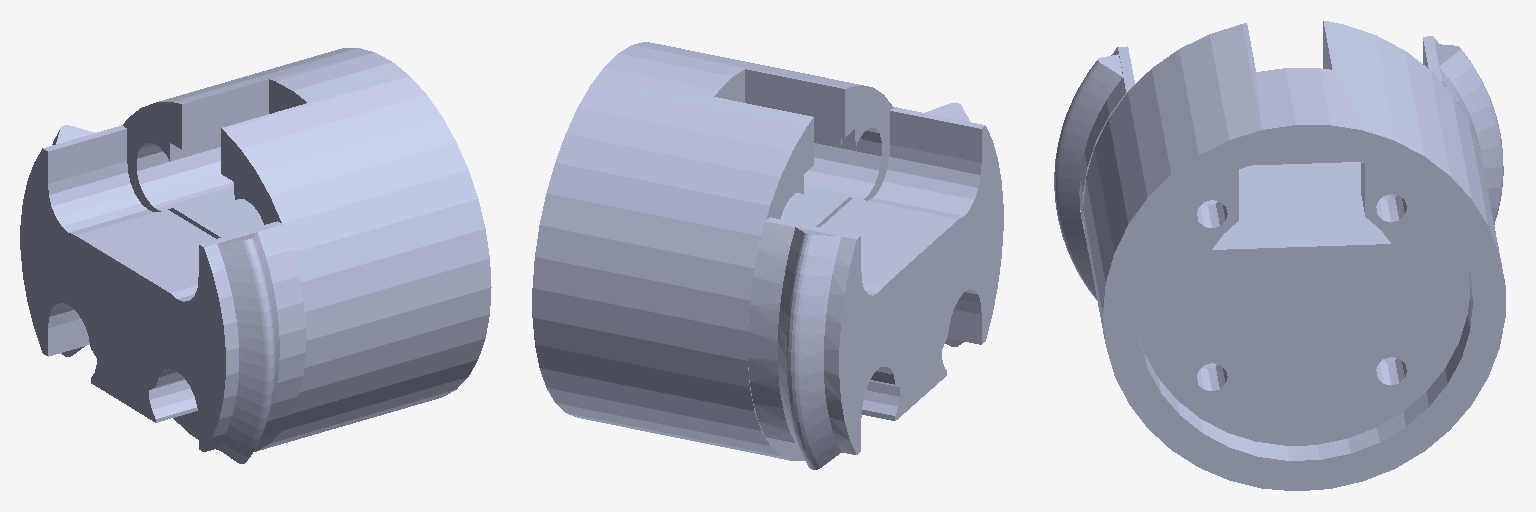
robot.urdf — unitree_l6_link_001:
<?xml version="1.0" encoding="utf-8"?>
<!-- This URDF was automatically created by SolidWorks to URDF Exporter! Originally created by Stephen Brawner (brawner@gmail.com) 
     Commit Version: 1.6.0-4-g7f85cfe  Build Version: 1.6.7995.38578
     For more information, please see http://wiki.ros.org/sw_urdf_exporter -->
<robot
  name="unitree_l6_link_001">
  <link
    name="base_link">
    <inertial>
      <origin
        xyz="-0.004981 -0.000887 0.000246"
        rpy="0 0 0" />
      <mass
        value="0.040989831193917" />
      <inertia
        ixx="1.07132168943605E-05"
        ixy="-1.36461663564329E-07"
        ixz="-3.56868824575279E-07"
        iyy="8.27780003669262E-06"
        iyz="1.69028864490761E-08"
        izz="6.29622534613929E-06" />
    </inertial>
    <visual>
      <origin
        xyz="0 0 0"
        rpy="0 0 0" />
      <geometry>
        <mesh
          filename="package://unitree_l6_link_001/meshes/base_link.STL" />
      </geometry>
      <material
        name="">
        <color
          rgba="0.792156862745098 0.819607843137255 0.933333333333333 1" />
      </material>
    </visual>
    <collision>
      <origin
        xyz="0 0 0"
        rpy="0 0 0" />
      <geometry>
        <mesh
          filename="package://unitree_l6_link_001/meshes/base_link.STL" />
      </geometry>
    </collision>
  </link>
</robot>

--- Facts derived from the render (not from the file) ---
Views: 3 orthographic renders of the robot side by side, from view 1: azimuth 30°, elevation 25°; view 2: azimuth 150°, elevation 25°; view 3: azimuth 270°, elevation 25°.
Model unitree_l6_link_001 with 1 links and 0 joints (none), rooted at base_link, posed every joint at zero.
Links seen in each view (by area): view 1: base_link; view 2: base_link; view 3: base_link.
Boxes of the visible links, bbox=[...] form: base_link: bbox=[20, 48, 491, 463]; base_link: bbox=[532, 42, 1003, 469]; base_link: bbox=[1054, 21, 1505, 490].
Bounding box of the posed robot: 0.0433 × 0.0502 × 0.045 m (x, y, z).
Meshes: 1 distinct files referenced, 1 mesh visuals loaded (1 binary STL).
